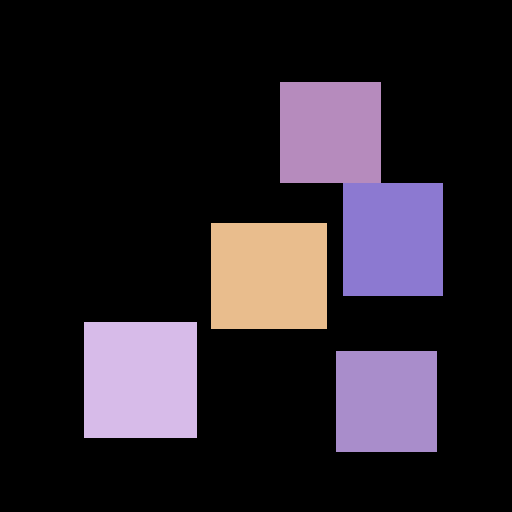circle: (280, 82, 442, 295)
square: (84, 322, 196, 437), (211, 223, 326, 328), (336, 351, 436, 451)
